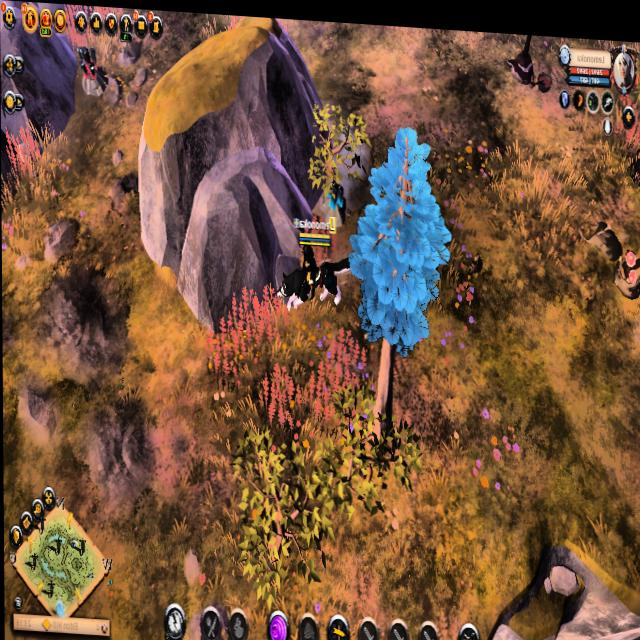ore tier 4: (322, 173, 349, 225)
wood tier 4: (346, 116, 452, 353)
